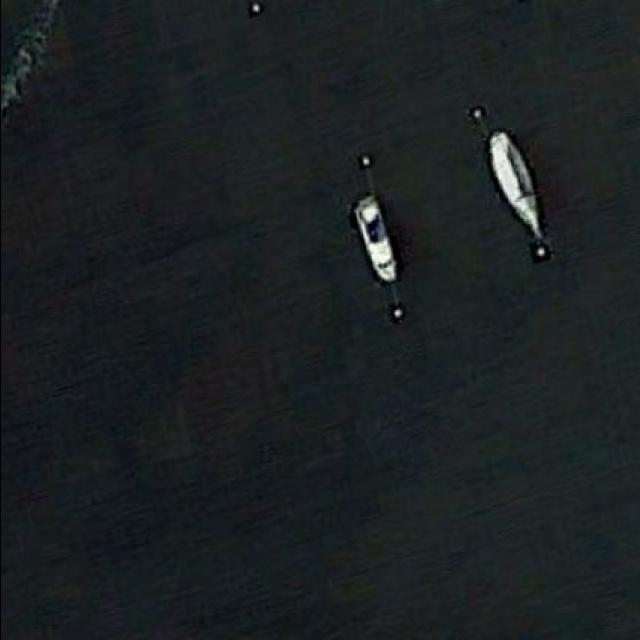ship: (486, 132, 548, 246), (353, 196, 399, 286)
